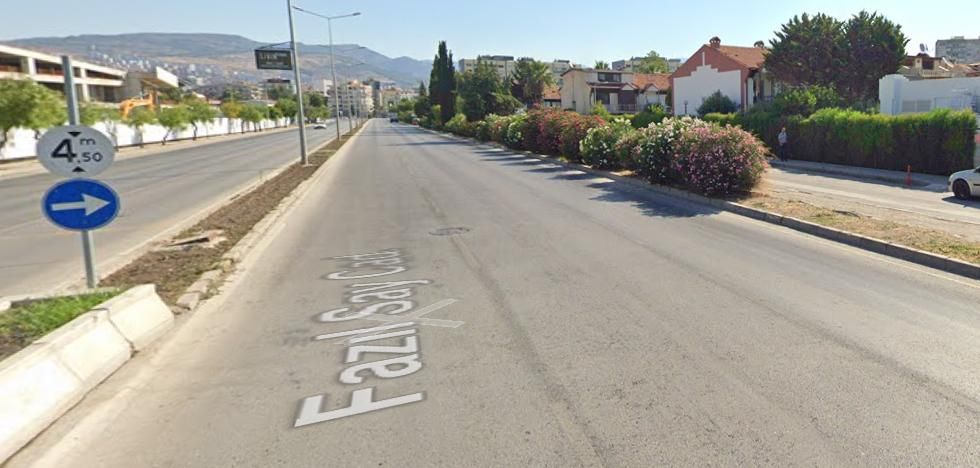turnright: (42, 180, 115, 229)
